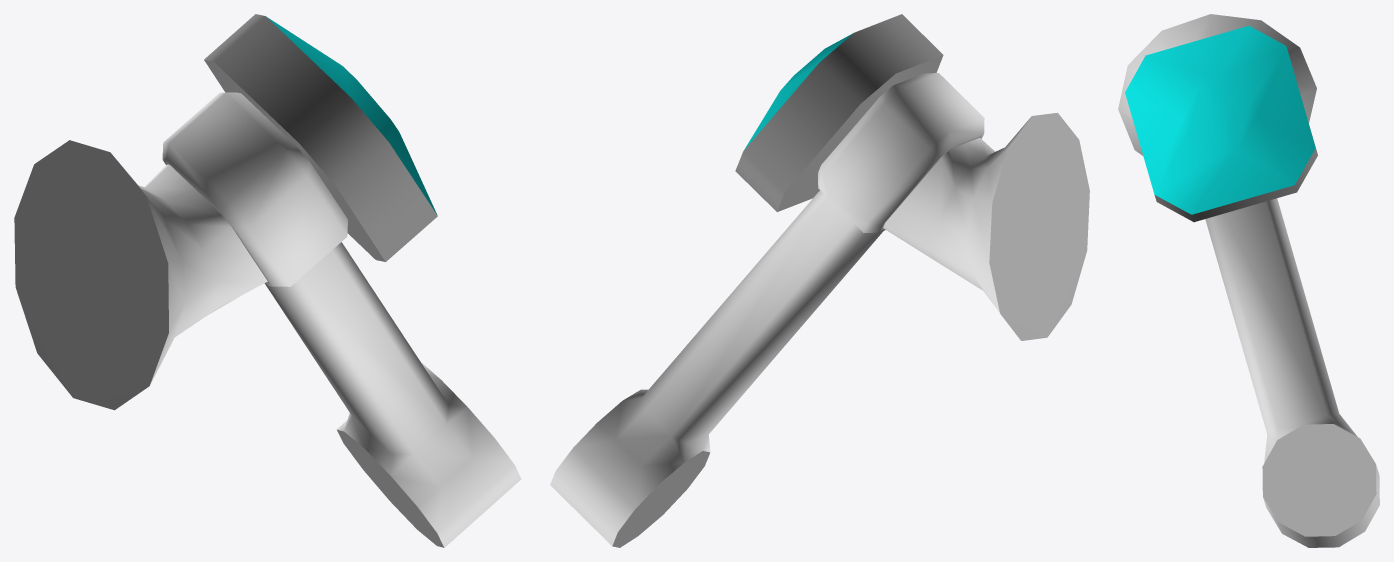
The model's file is right_top_arm.obj.
The picture shows the model from 3 angles, left to right: view 1: azimuth 30°, elevation 25°; view 2: azimuth 150°, elevation 25°; view 3: azimuth 270°, elevation 25°; orthographic projection. The views are drawn at different scales.
Parts seen in each view (by area): view 1: right_arm_all robo4:Robot pasted__group1 right_arm body; view 2: right_arm_all robo4:Robot pasted__group1 right_arm body; view 3: right_arm_all robo4:Robot pasted__group1 right_arm body.
Part boxes in pixels (x1,y1,x2,y2): right_arm_all robo4:Robot pasted__group1 right_arm body: (14, 14, 521, 547); right_arm_all robo4:Robot pasted__group1 right_arm body: (550, 14, 1089, 547); right_arm_all robo4:Robot pasted__group1 right_arm body: (1118, 14, 1379, 547).
Size of the model in its own units: 1.34 by 1.56 by 0.8297.
